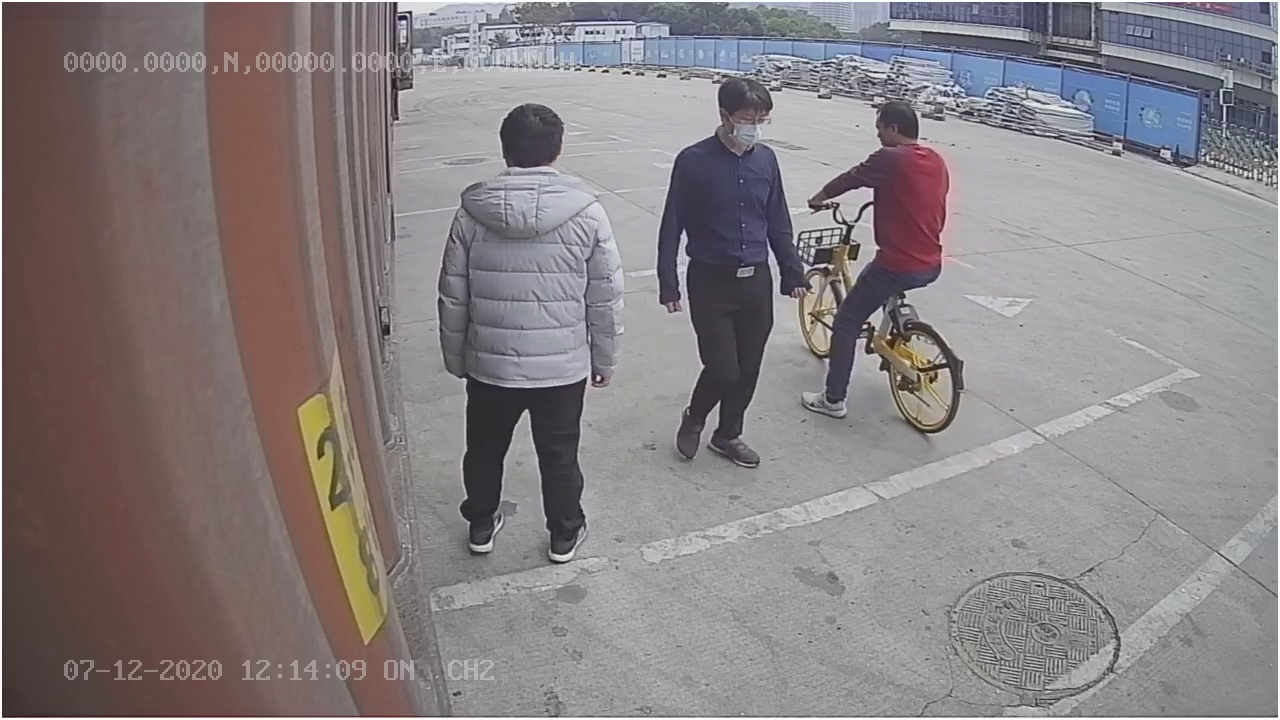person: (437, 95, 620, 573), (655, 33, 805, 467)
